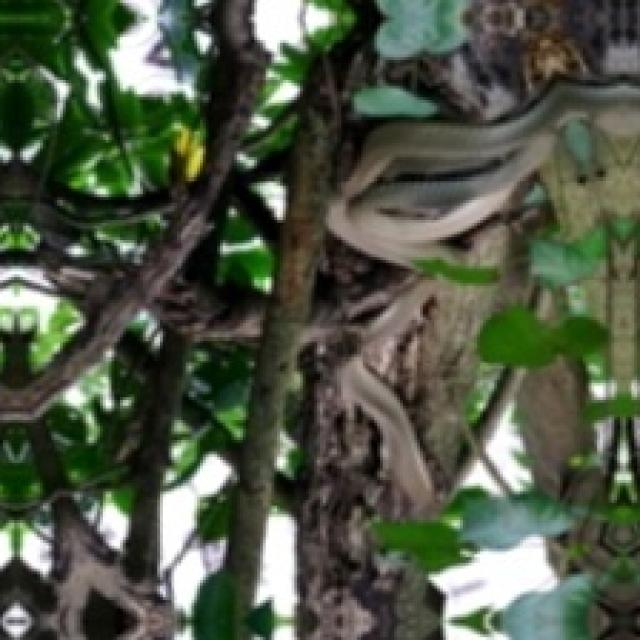king cobra: (326, 83, 637, 263)
